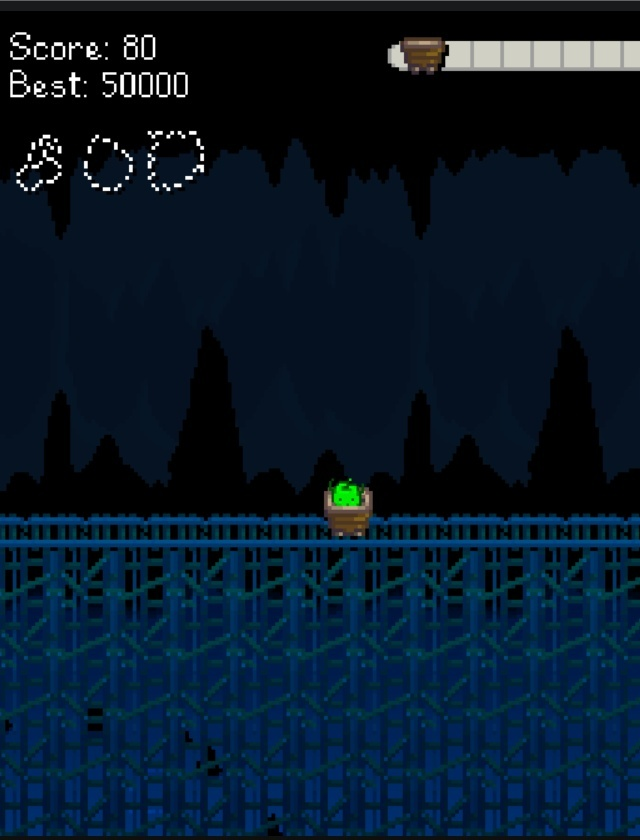minecart: (324, 479, 371, 534)
tracks: (0, 501, 318, 553), (380, 505, 640, 554)
